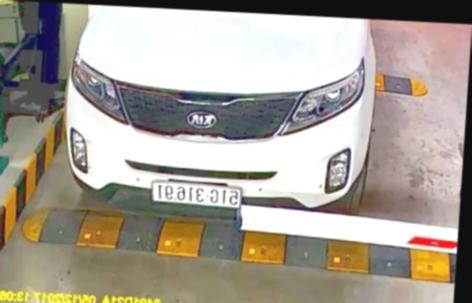License_Plate: (149, 181, 244, 208)
